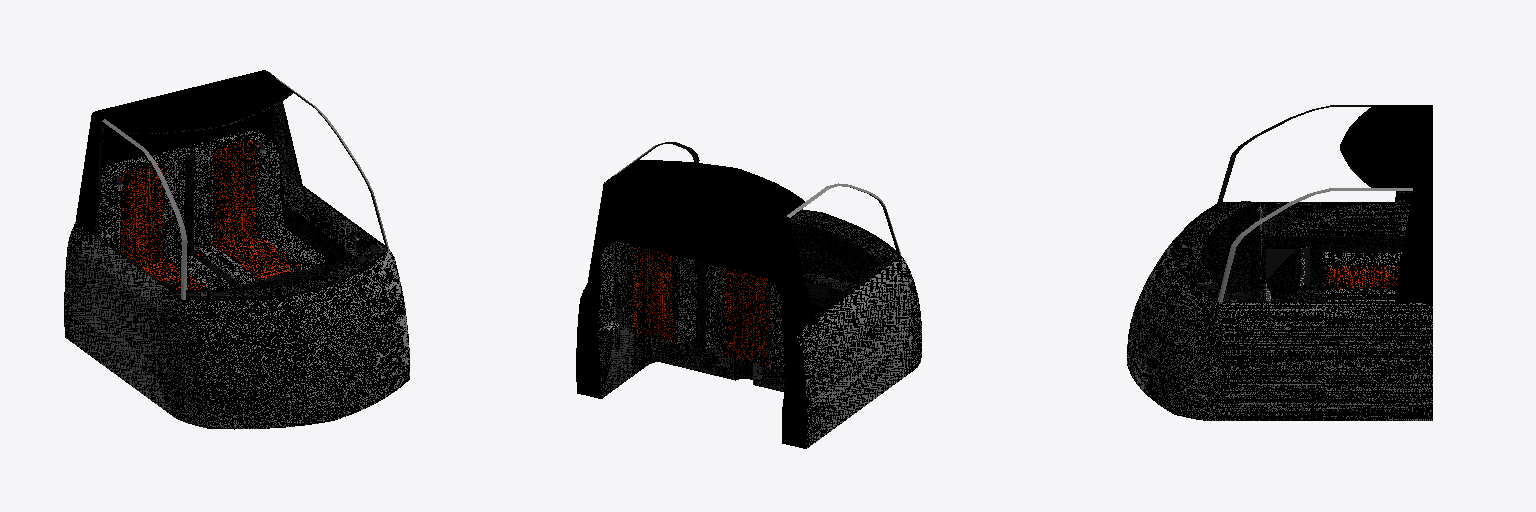
File: chassis.obj
3 views of the same model, side by side, from view 1: azimuth 30°, elevation 25°; view 2: azimuth 150°, elevation 25°; view 3: azimuth 270°, elevation 25° (orthographic).
Parts seen in each view (by area): view 1: group_2.008_ID79, group_5.008_ID472, group_2.025_ID181, group_5.003_ID442, group_5.006_ID460, group_2.003_ID43, group_2.006_ID65, group_5.025_ID574, group_5.048_ID712, group_5.027_ID586, group_5.013_ID502, group_2.011_ID97 (+6 smaller); view 2: group_2.008_ID79, group_2.025_ID181, group_5.025_ID574, group_5.004_ID448, group_5.003_ID442, group_2.006_ID65, group_5.006_ID460, group_2.003_ID43, group_2_ID19, group_2.001_ID29, group_2.007_ID73, group_2.004_ID51 (+2 smaller); view 3: group_5.008_ID472, group_5.025_ID574, group_2.048_ID319, group_2_ID19, group_2.025_ID181, group_2.027_ID193, group_2.003_ID43, group_2.006_ID65, group_2.001_ID29, group_2.042_ID283, group_5.011_ID490, group_5.024_ID568 (+3 smaller).
Boxes of the visible parts, x1=… form: group_2.008_ID79: x1=64, y1=222, x2=331, y2=429; group_5.008_ID472: x1=311, y1=249, x2=409, y2=420; group_2.025_ID181: x1=76, y1=91, x2=225, y2=235; group_5.003_ID442: x1=180, y1=130, x2=327, y2=284; group_5.006_ID460: x1=214, y1=138, x2=301, y2=280; group_2.003_ID43: x1=98, y1=148, x2=229, y2=289; group_2.006_ID65: x1=121, y1=162, x2=206, y2=289; group_5.025_ID574: x1=180, y1=70, x2=292, y2=226; group_5.048_ID712: x1=281, y1=173, x2=360, y2=254; group_5.027_ID586: x1=285, y1=205, x2=353, y2=262; group_5.013_ID502: x1=226, y1=92, x2=299, y2=185; group_2.011_ID97: x1=102, y1=119, x2=187, y2=299; group_2.008_ID79: x1=796, y1=241, x2=921, y2=448; group_2.025_ID181: x1=692, y1=169, x2=826, y2=448; group_5.025_ID574: x1=576, y1=160, x2=737, y2=398; group_5.004_ID448: x1=597, y1=325, x2=735, y2=398; group_5.003_ID442: x1=597, y1=241, x2=696, y2=345; group_2.006_ID65: x1=726, y1=268, x2=769, y2=366; group_5.006_ID460: x1=633, y1=246, x2=675, y2=343; group_2.003_ID43: x1=706, y1=263, x2=784, y2=366; group_2_ID19: x1=801, y1=227, x2=882, y2=284; group_2.001_ID29: x1=803, y1=220, x2=887, y2=291; group_2.007_ID73: x1=701, y1=262, x2=847, y2=379; group_2.004_ID51: x1=753, y1=363, x2=785, y2=391; group_5.008_ID472: x1=1127, y1=253, x2=1432, y2=420; group_5.025_ID574: x1=1340, y1=147, x2=1432, y2=302; group_2.048_ID319: x1=1271, y1=203, x2=1409, y2=235; group_2_ID19: x1=1200, y1=207, x2=1259, y2=289; group_2.025_ID181: x1=1340, y1=105, x2=1432, y2=146; group_2.027_ID193: x1=1262, y1=236, x2=1404, y2=282; group_2.003_ID43: x1=1321, y1=252, x2=1401, y2=298; group_2.006_ID65: x1=1326, y1=191, x2=1411, y2=289; group_2.001_ID29: x1=1195, y1=201, x2=1306, y2=300; group_2.042_ID283: x1=1266, y1=249, x2=1307, y2=292; group_5.011_ID490: x1=1217, y1=188, x2=1412, y2=302; group_5.024_ID568: x1=1175, y1=253, x2=1240, y2=301.
Bounding box in the file's own units: 1.39 × 1.26 × 1.6.